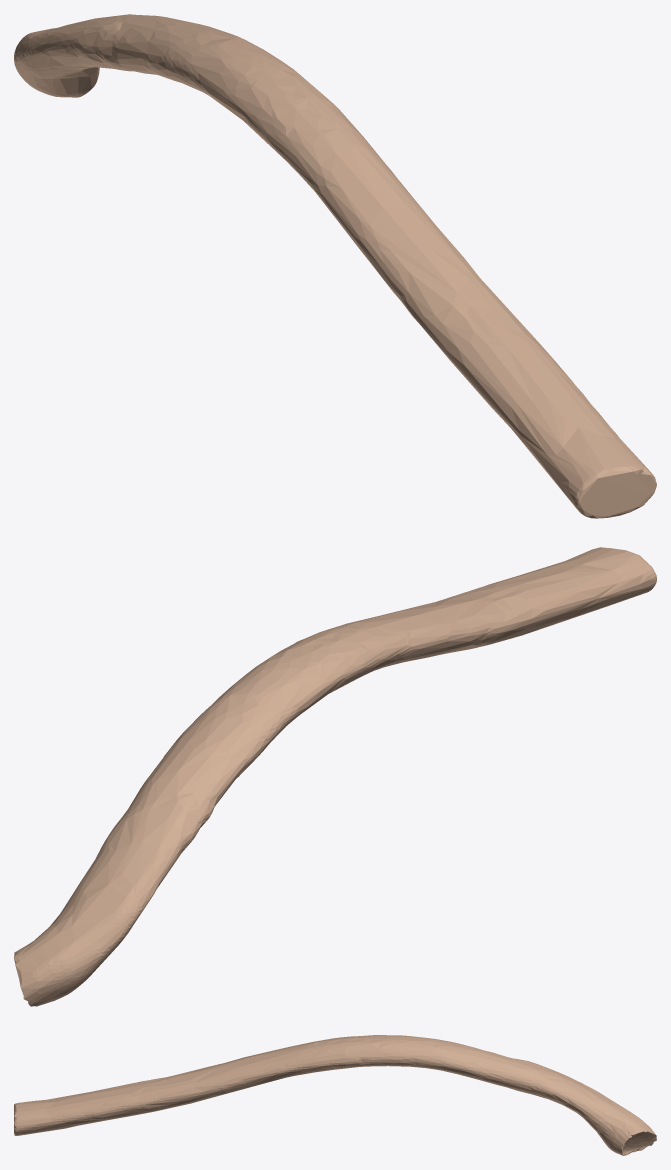
Rendered from oesophage.glb.
The picture shows the model from 3 angles, top to bottom: view 1: azimuth 30°, elevation 25°; view 2: azimuth 150°, elevation 25°; view 3: azimuth 270°, elevation 25°; orthographic projection. The views are drawn at different scales.
Parts seen in each view (by area): view 1: FMA7131.stl; view 2: FMA7131.stl; view 3: FMA7131.stl.
Boxes of the visible parts, x1,y1,x2,y2 form: FMA7131.stl: [14, 14, 656, 518]; FMA7131.stl: [14, 547, 656, 1006]; FMA7131.stl: [14, 1035, 656, 1155].
Size of the model in its own units: 0.2035 by 0.353 by 1.96.
